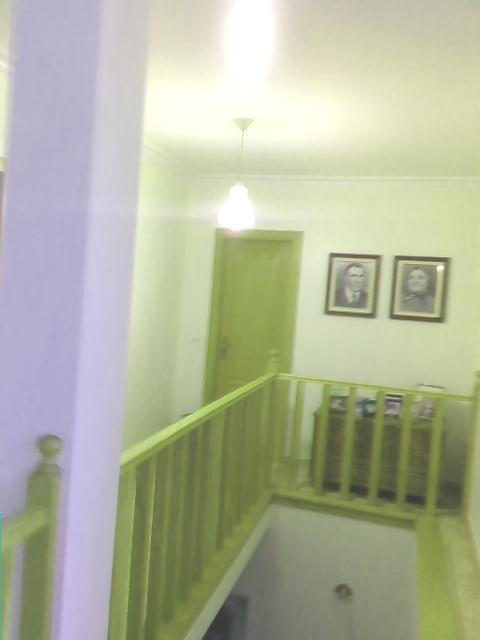closed_door: (201, 225, 303, 516)
